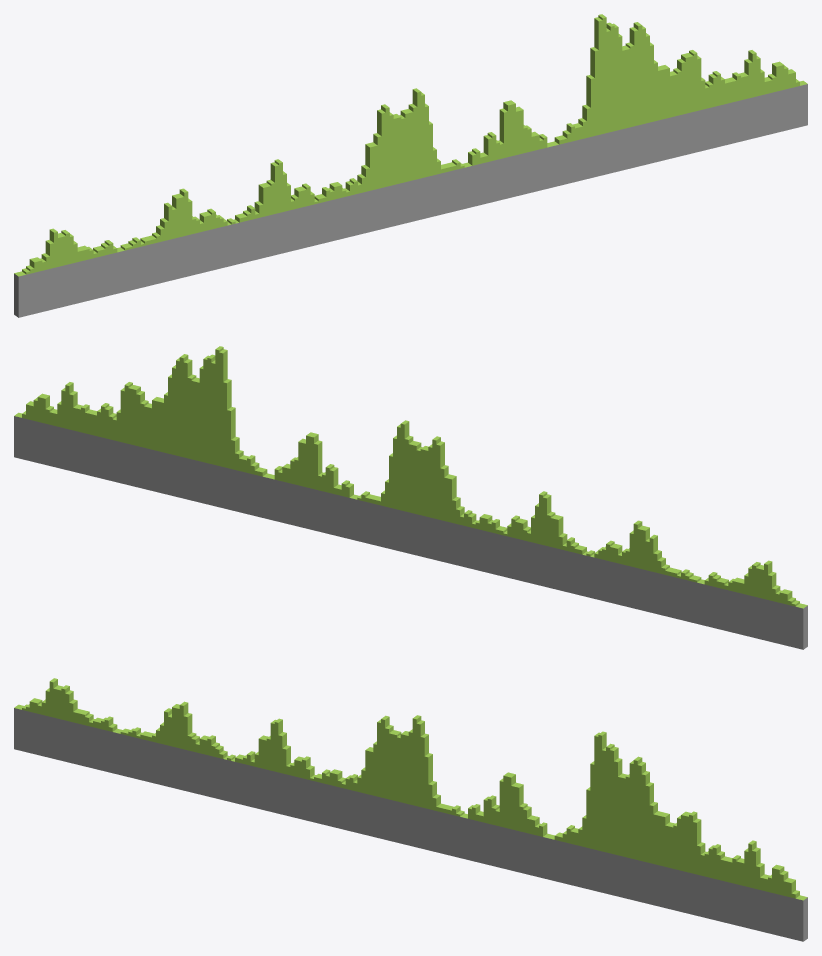
File: Terrain2.fbx
3 views of the same model, one above another, from view 1: azimuth 30°, elevation 25°; view 2: azimuth 150°, elevation 25°; view 3: azimuth 330°, elevation 25° (orthographic).
Parts seen in each view (by area): view 1: pCube2; view 2: pCube2; view 3: pCube2.
Part boxes in pixels (x1,y1,x2,y2): pCube2: [14, 14, 807, 317]; pCube2: [14, 346, 807, 649]; pCube2: [14, 678, 807, 941].
Size of the model in its own units: 400 by 76 by 4.
